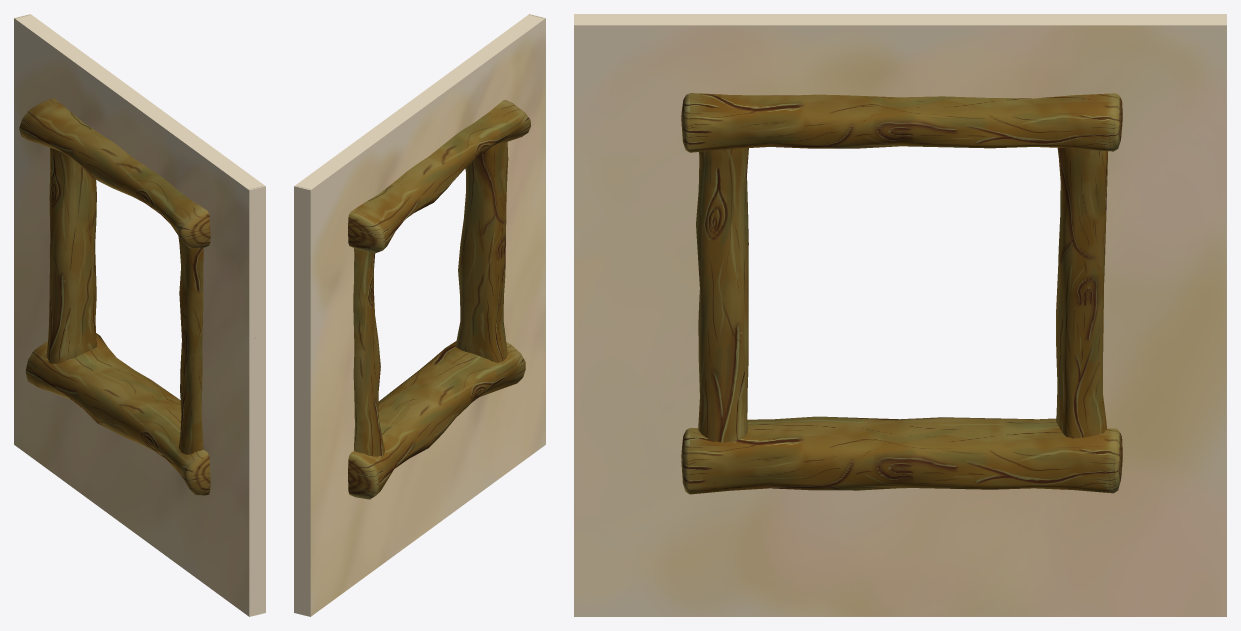
The model's file is WallWithWindow_3.fbx.
The picture shows the model from 3 angles, left to right: view 1: azimuth 30°, elevation 25°; view 2: azimuth 150°, elevation 25°; view 3: azimuth 270°, elevation 25°; orthographic projection. The views are drawn at different scales.
Visible parts, largest first — view 1: BaseWall.061; view 2: BaseWall.061; view 3: BaseWall.061.
Boxes of the visible parts, x1,y1,x2,y2 form: BaseWall.061: (14, 14, 265, 616); BaseWall.061: (294, 14, 545, 616); BaseWall.061: (574, 14, 1226, 616).
Size of the model in its own units: 0.4354 by 2 by 2.
